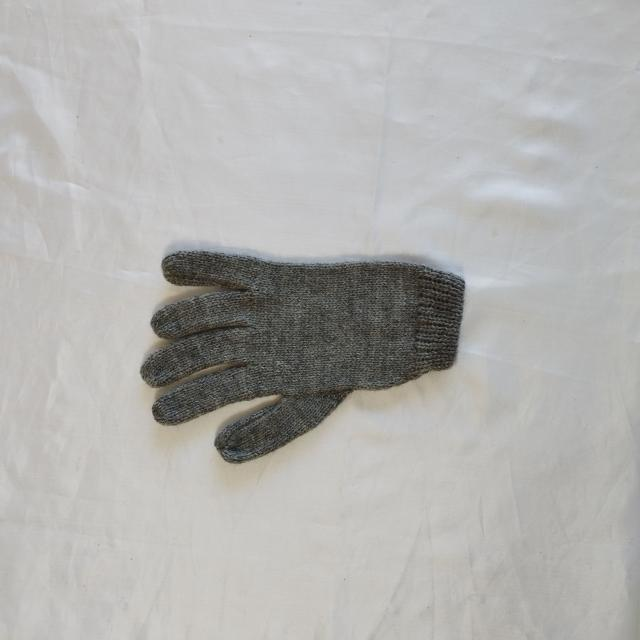Guante: (140, 248, 467, 464)
